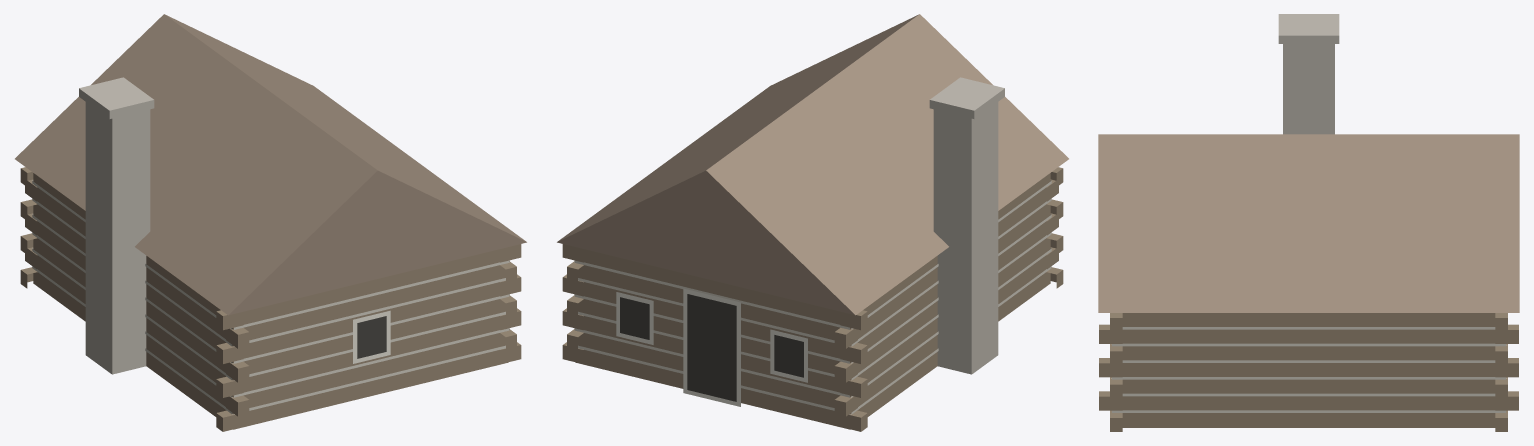
File: recon_1835_blk_south_water_clark_d1_04__inferred_1835.glb
3 views of the same model, side by side, from view 1: azimuth 30°, elevation 25°; view 2: azimuth 150°, elevation 25°; view 3: azimuth 270°, elevation 25° (orthographic).
Parts seen in each view (by area): view 1: recon_1835_blk_south_water_clark_d1_04__inferred_1835; view 2: recon_1835_blk_south_water_clark_d1_04__inferred_1835; view 3: recon_1835_blk_south_water_clark_d1_04__inferred_1835.
Boxes of the visible parts, <box> form: recon_1835_blk_south_water_clark_d1_04__inferred_1835: <box>15,14,526,431</box>; recon_1835_blk_south_water_clark_d1_04__inferred_1835: <box>557,14,1068,431</box>; recon_1835_blk_south_water_clark_d1_04__inferred_1835: <box>1098,14,1519,431</box>.
Size of the model in its own units: 6.86 by 5.42 by 7.78.
